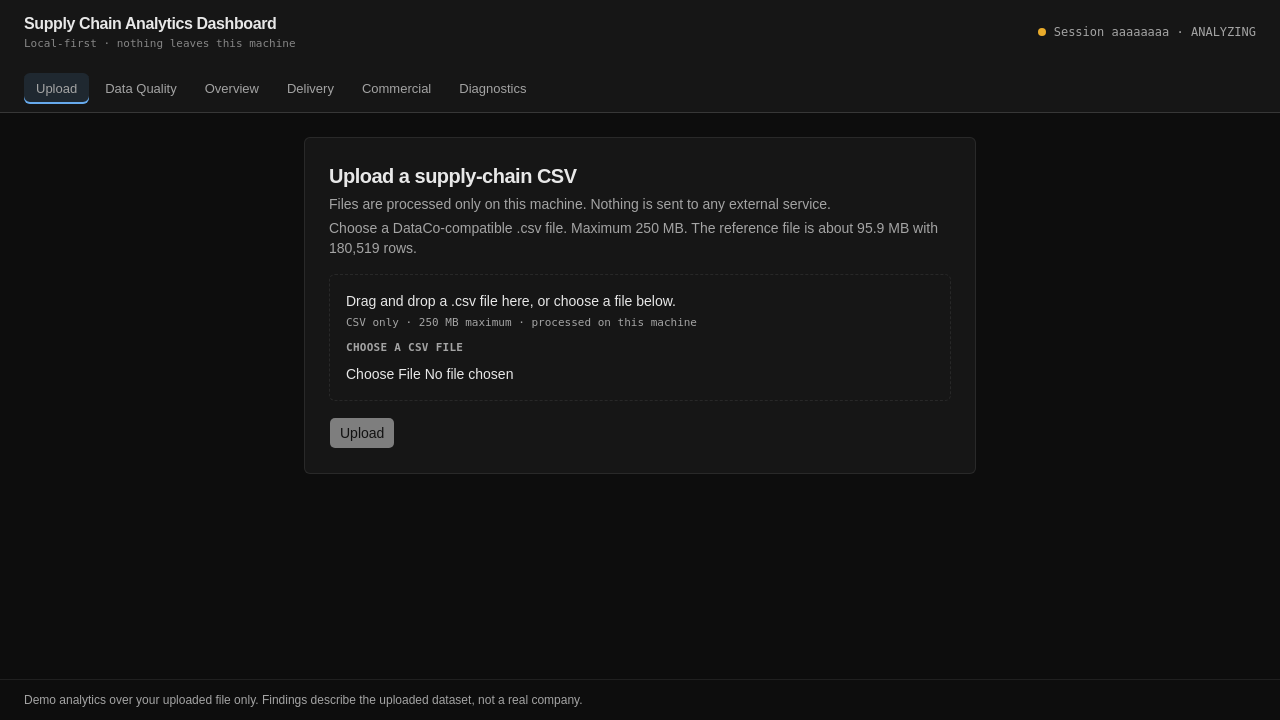
Test case: Phase-14 Commercial analytics › renders loading progress while KPI analysis is not ready
Click the button "Commercial": point(397, 88) left=350, top=72, right=443, bottom=104
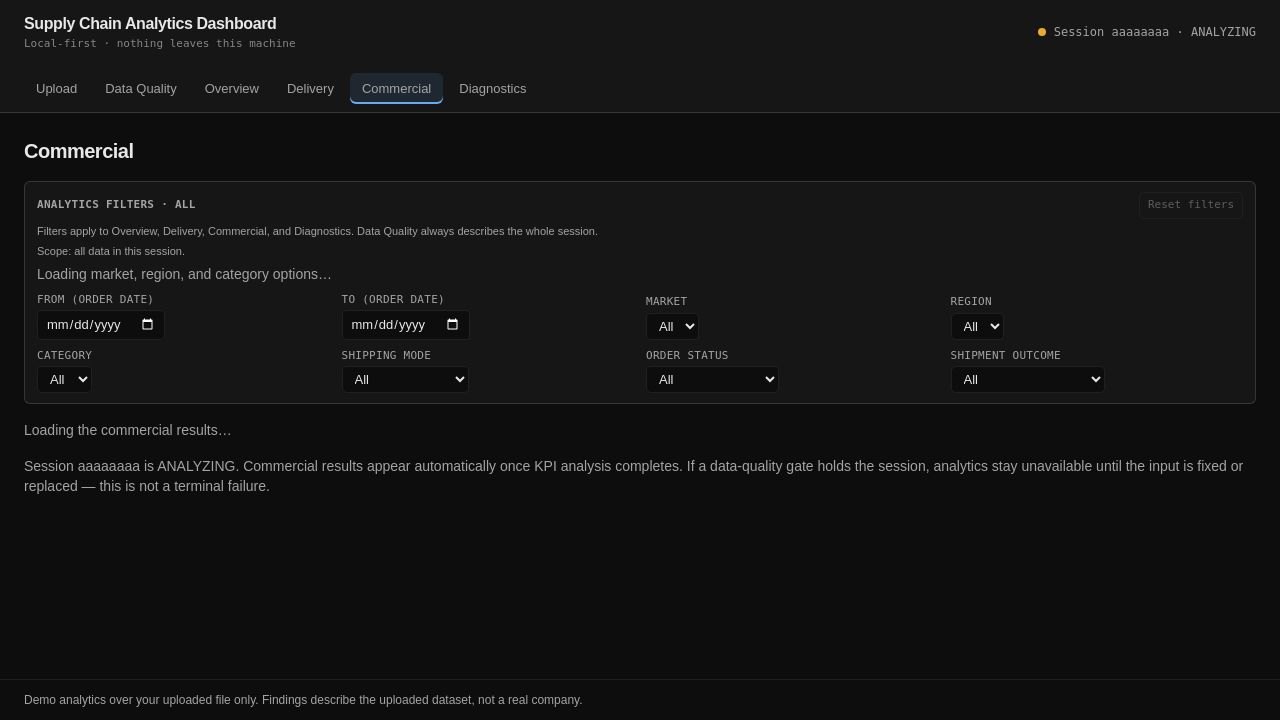
Result: the heading "Commercial" is shown at left=24, top=140, right=134, bottom=162
Result: the text "Loading the commercial results…" is shown at left=24, top=422, right=232, bottom=438
